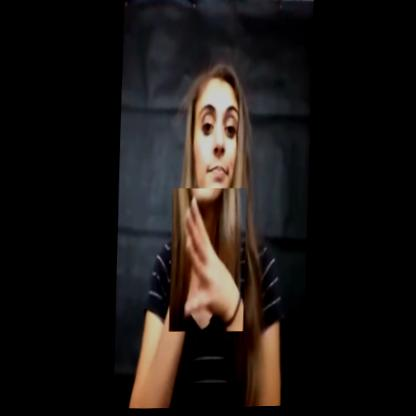Talk: (168, 187, 247, 336)
